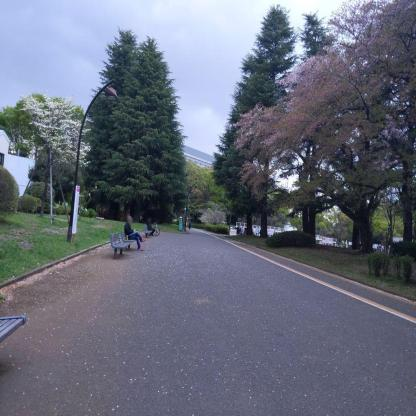Someiyoshino: (220, 0, 416, 208), (13, 81, 98, 177)
